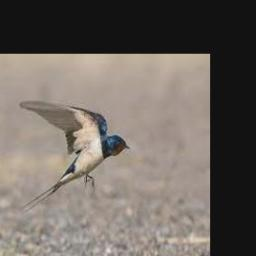Swallow: (19, 100, 130, 212)
